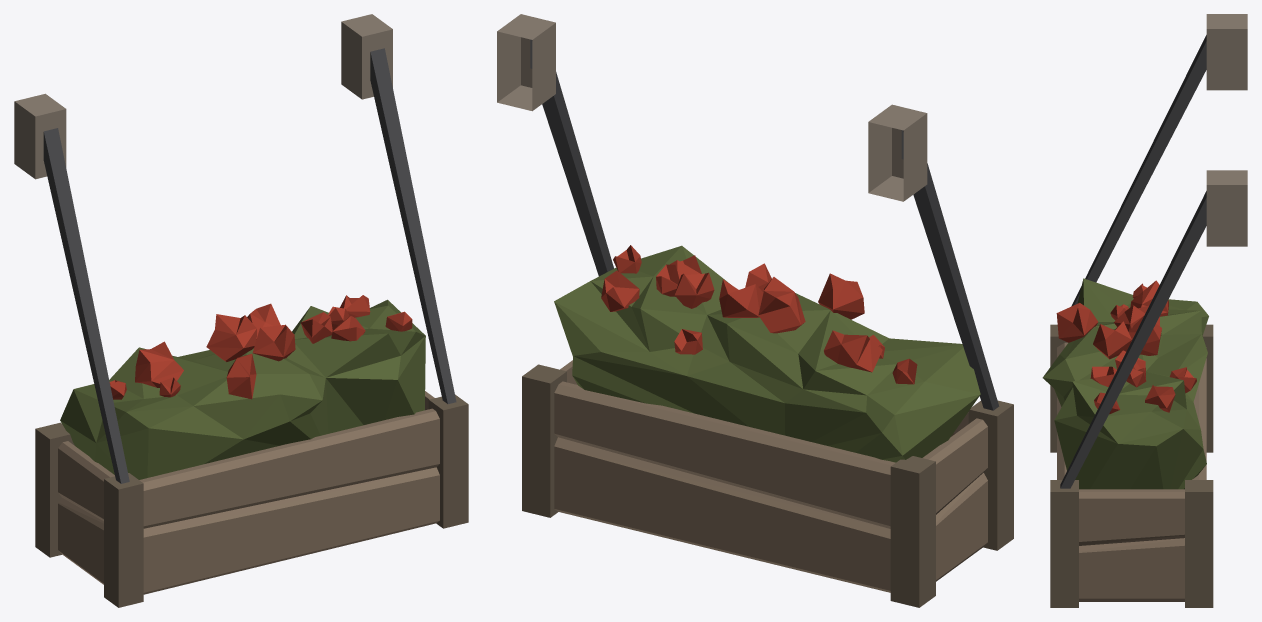
Rendered from SM_Prop_Planter_02.glb.
The picture shows the model from 3 angles, left to right: view 1: azimuth 30°, elevation 25°; view 2: azimuth 150°, elevation 25°; view 3: azimuth 270°, elevation 25°; orthographic projection. The views are drawn at different scales.
Parts seen in each view (by area): view 1: SM_Prop_Planter_02_part00; view 2: SM_Prop_Planter_02_part00; view 3: SM_Prop_Planter_02_part00.
Boxes of the visible parts, x1,y1,x2,y2 form: SM_Prop_Planter_02_part00: (14,14,468,607); SM_Prop_Planter_02_part00: (497,14,1013,607); SM_Prop_Planter_02_part00: (1042,14,1247,607).
Size of the model in its own units: 1.44 by 1.67 by 0.7285.
Materials: 1 (1 with a texture image).
